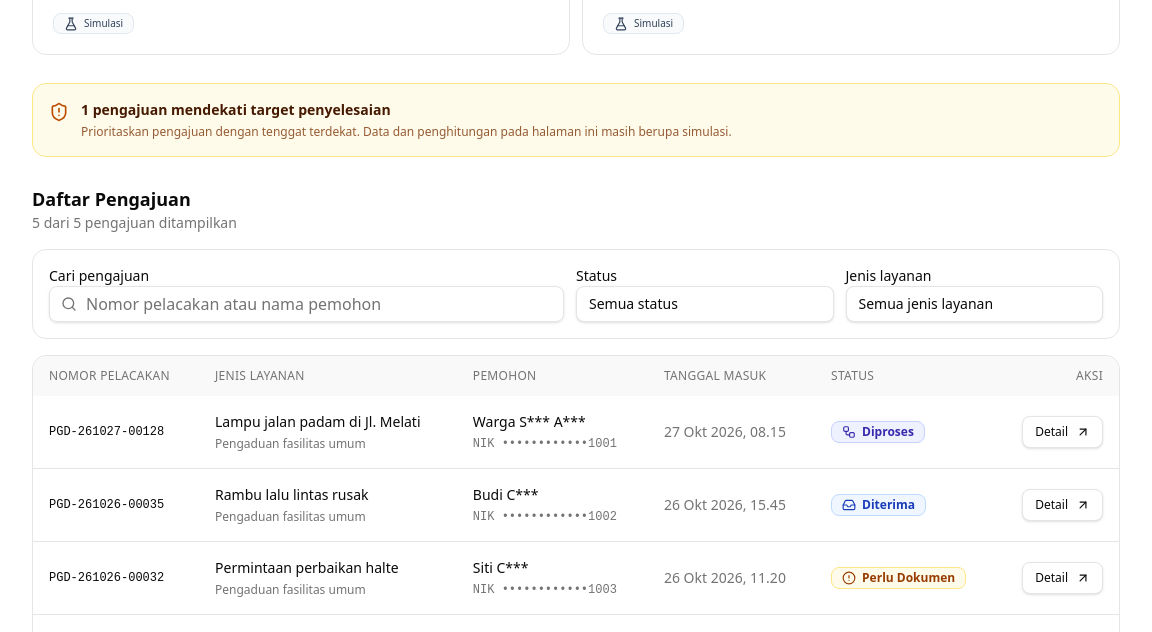
Test: AgencyDashboard › shows a useful empty state when filters find no applications
(page scrolled)
Type "tidak ada" into the field named "Cari nomor pelacakan atau nama pemohon".
click(306, 304); type("tidak ada")  # box [49,286,564,322]
(page scrolled)
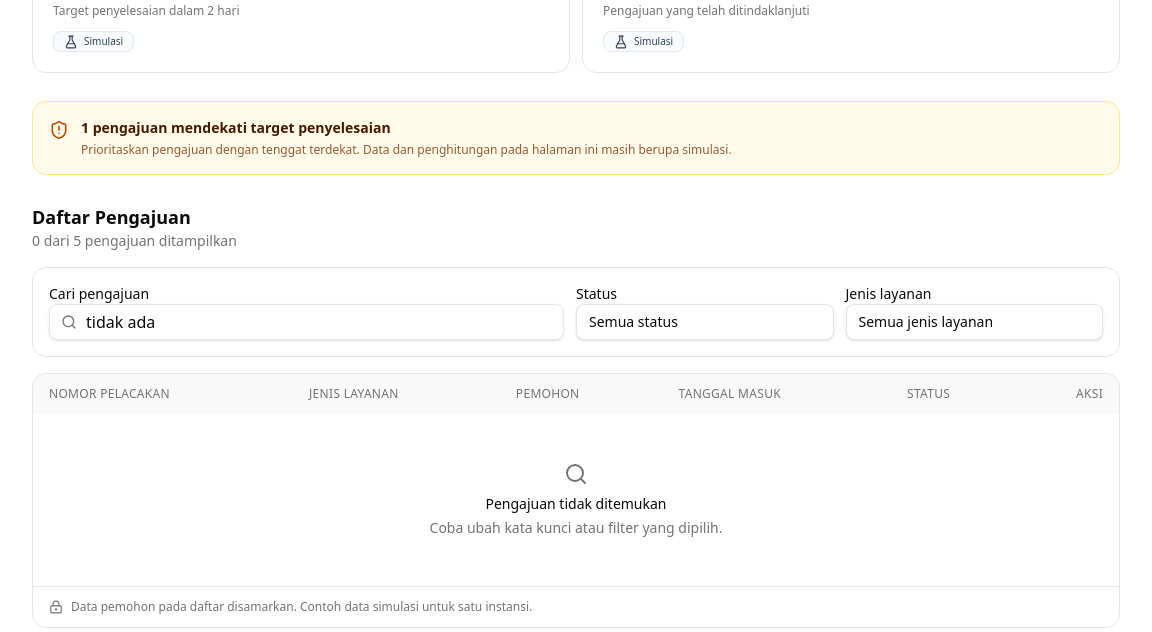
Result: the text "Pengajuan tidak ditemukan" is shown at [486,494,666,513]
